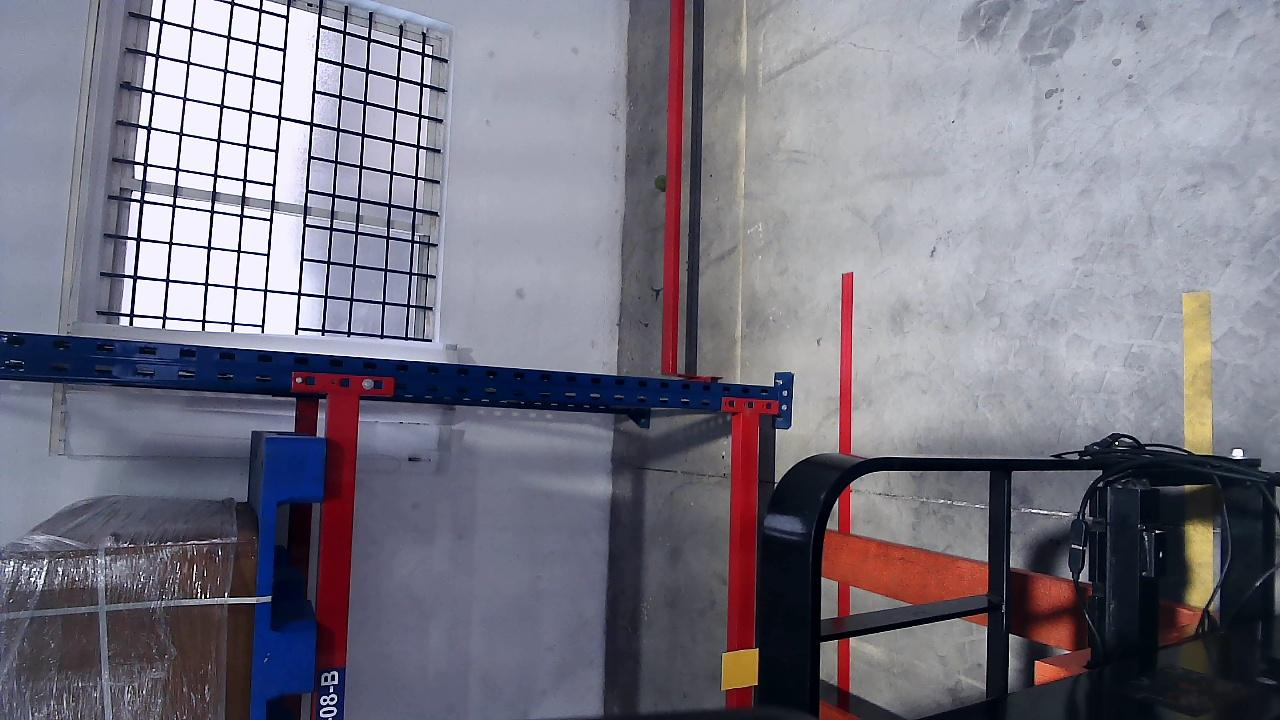h_rack: (726, 411, 760, 704), (325, 390, 354, 714)
orange_strip: (722, 649, 761, 689)
red_line: (841, 271, 852, 698)
small_pallet: (247, 432, 328, 719)
yellow_line: (1182, 292, 1215, 454)
